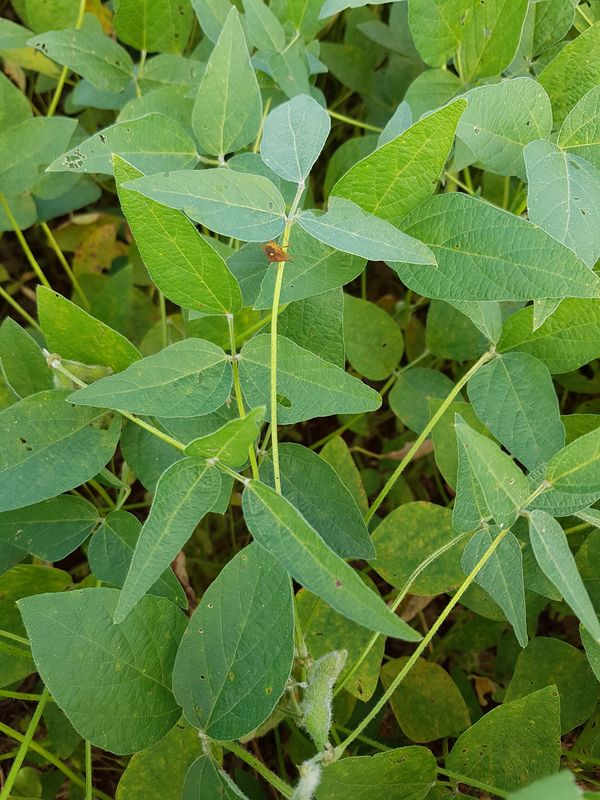Euschistus_heros_adulto: (254, 231, 300, 268)
